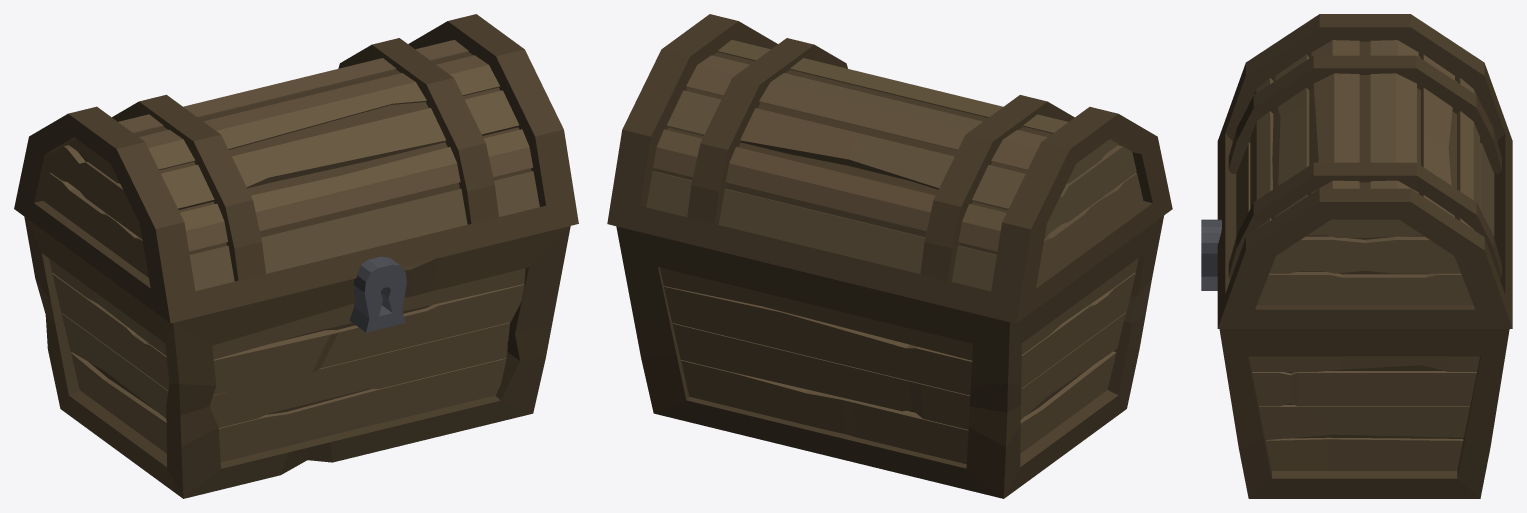
File: Chest.glb
3 renders of one model, left to right at view 1: azimuth 30°, elevation 25°; view 2: azimuth 150°, elevation 25°; view 3: azimuth 270°, elevation 25°, orthographic. The views are drawn at different scales.
Parts seen in each view (by area): view 1: Chest_Top, Chest_Base; view 2: Chest_Top, Chest_Base; view 3: Chest_Top, Chest_Base.
Part boxes in pixels (x1,y1,x2,y2): Chest_Top: (14, 14, 578, 323); Chest_Base: (24, 217, 570, 498); Chest_Top: (607, 14, 1172, 323); Chest_Base: (616, 216, 1163, 498); Chest_Top: (1217, 14, 1512, 328); Chest_Base: (1201, 219, 1509, 498).
Bounding box in the file's own units: 1.18 × 0.9093 × 0.8264.
